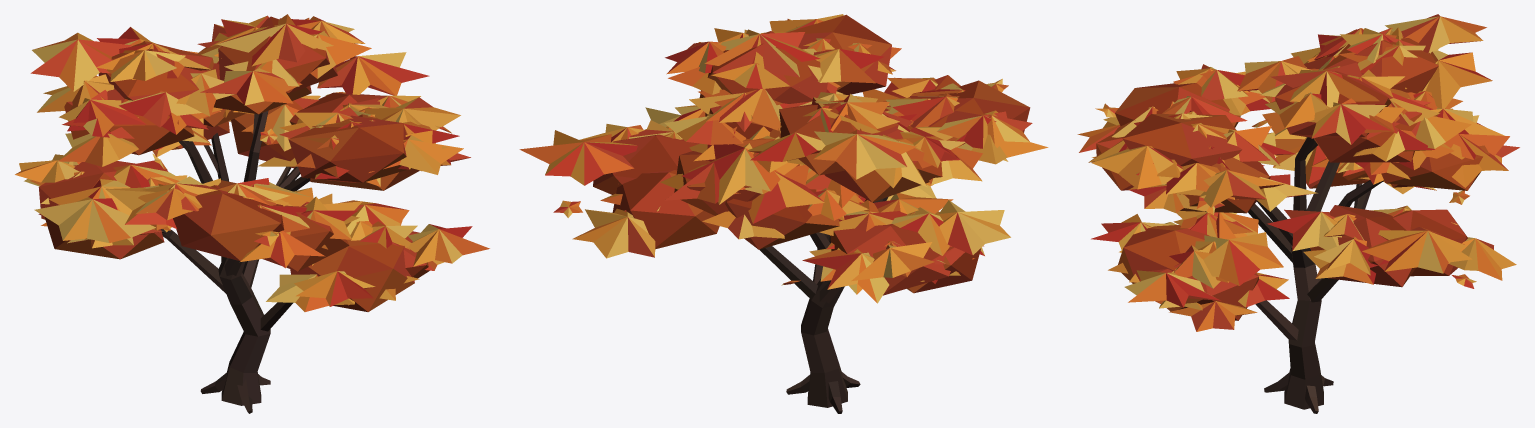
Rendered from zen_maple_orange.glb.
3 views of the same model, side by side, from view 1: azimuth 30°, elevation 25°; view 2: azimuth 150°, elevation 25°; view 3: azimuth 270°, elevation 25° (orthographic).
Visible parts, largest first — view 1: zen_maple_orange; view 2: zen_maple_orange; view 3: zen_maple_orange.
Part boxes in pixels (<box>): zen_maple_orange: <box>15,14,489,413</box>; zen_maple_orange: <box>519,14,1048,413</box>; zen_maple_orange: <box>1077,14,1519,413</box>.
Size of the model in its own units: 8.79 by 7.2 by 8.11.
